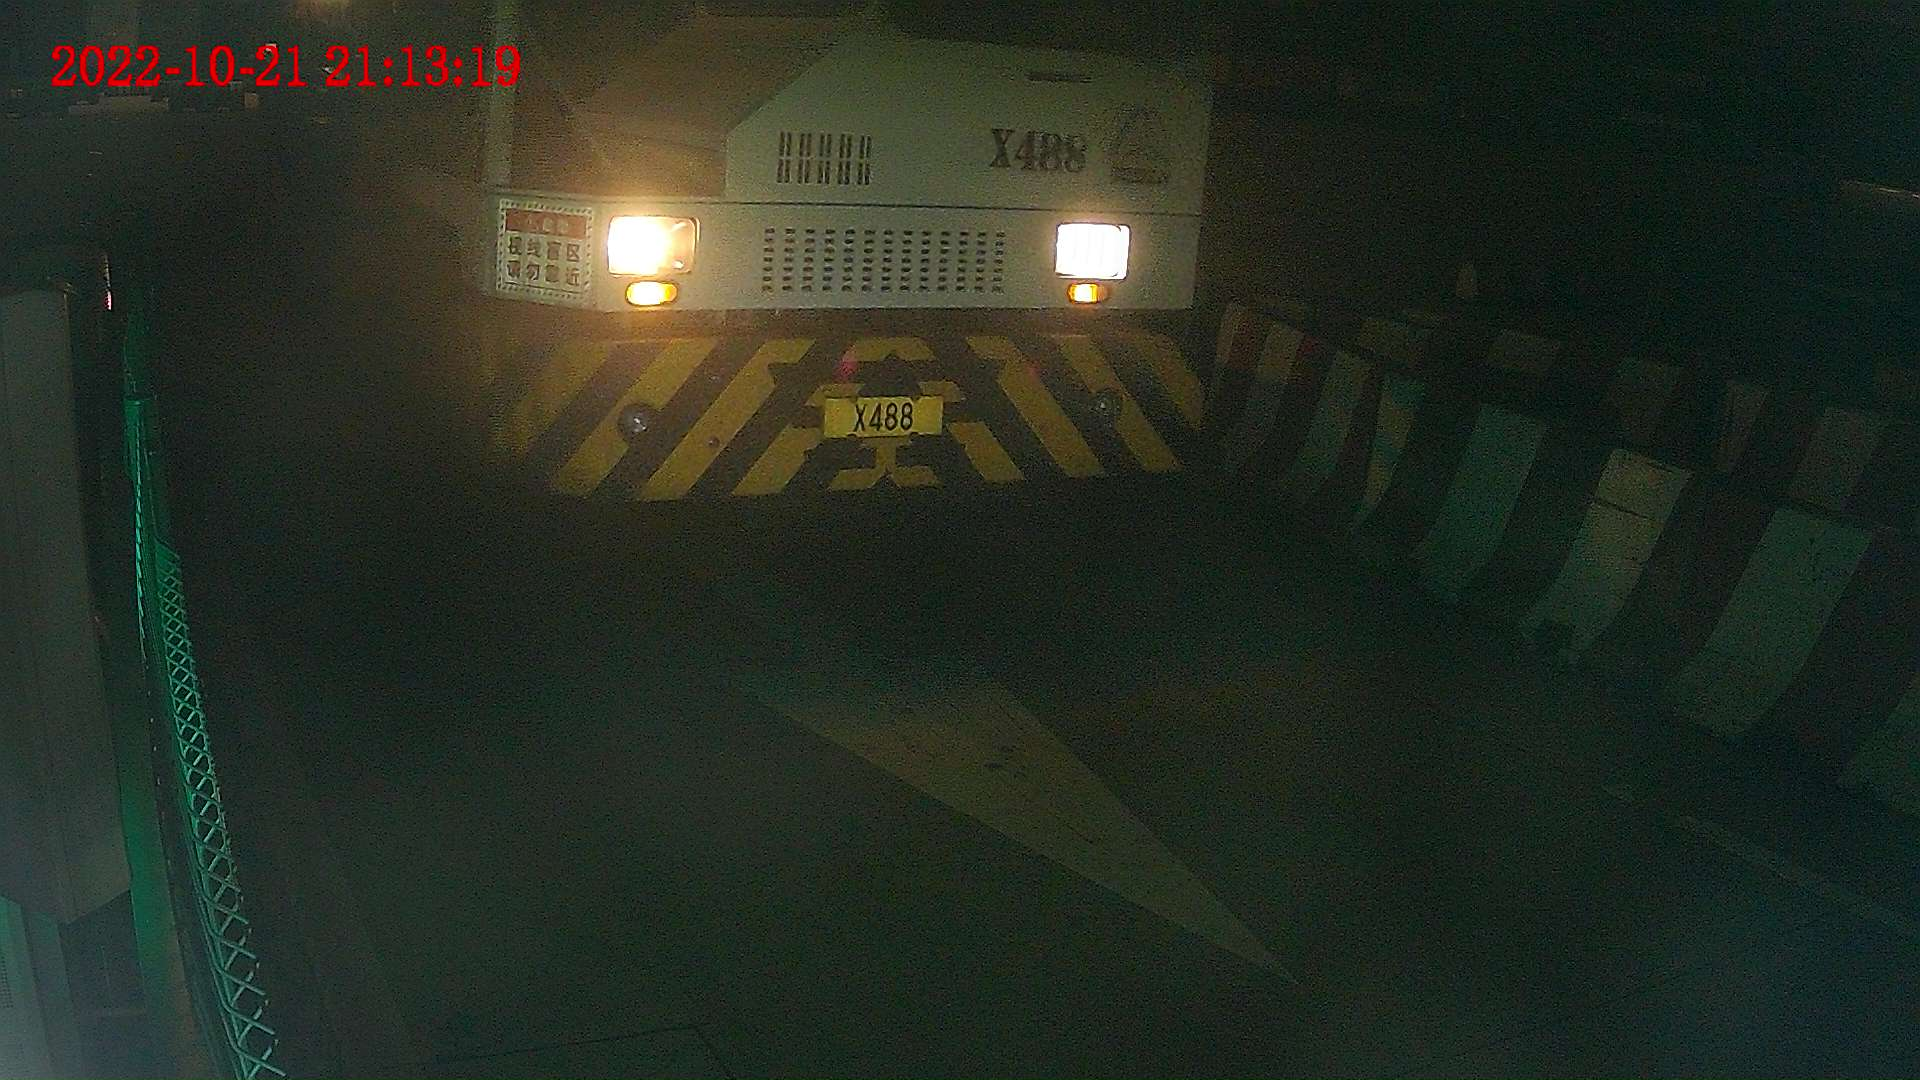head: (434, 1, 1210, 515)
plate: (827, 399, 939, 435)
